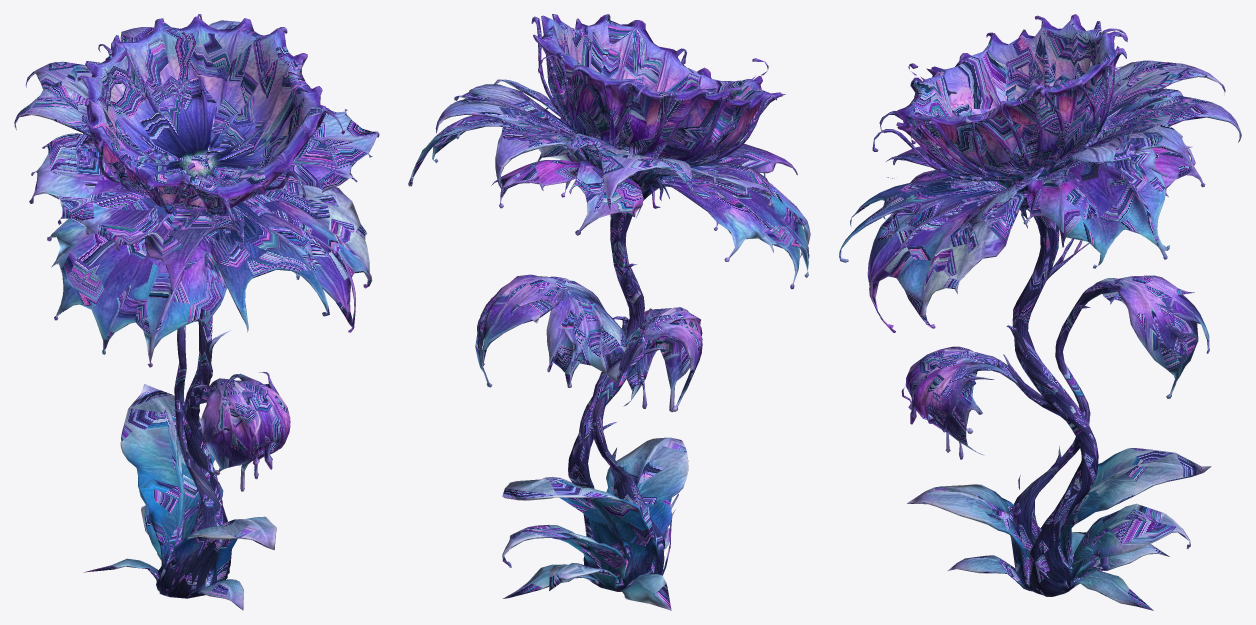
The model's file is Nebula_Bloom.glb.
3 renders of one model, left to right at view 1: azimuth 30°, elevation 25°; view 2: azimuth 150°, elevation 25°; view 3: azimuth 270°, elevation 25°, orthographic.
Visible parts, largest first — view 1: Nebula_Bloom; view 2: Nebula_Bloom; view 3: Nebula_Bloom.
Boxes of the visible parts, x1,y1,x2,y2 form: Nebula_Bloom: (14, 14, 379, 610); Nebula_Bloom: (408, 14, 810, 610); Nebula_Bloom: (839, 14, 1241, 610).
Size of the model in its own units: 1.18 by 1.9 by 1.29.
Materials: 1 (1 with a texture image).
